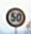limite 50: (4, 7, 26, 26)
